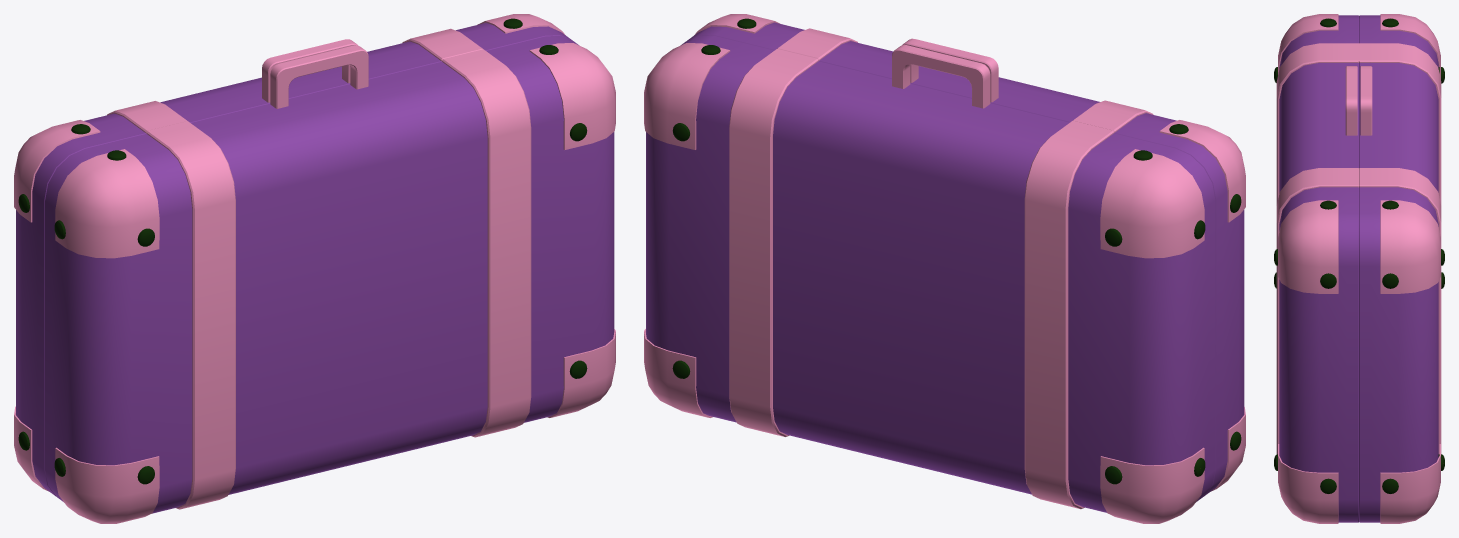
Rendered from Case01.fbx.
3 views of the same model, side by side, from view 1: azimuth 30°, elevation 25°; view 2: azimuth 150°, elevation 25°; view 3: azimuth 270°, elevation 25° (orthographic). The views are drawn at different scales.
Parts seen in each view (by area): view 1: Case01Part01, Case01Part02; view 2: Case01Part02, Case01Part01; view 3: Case01Part02, Case01Part01.
Boxes of the visible parts, bbox=[...] form: Case01Part01: bbox=[45, 35, 615, 523]; Case01Part02: bbox=[14, 14, 573, 496]; Case01Part02: bbox=[644, 35, 1215, 523]; Case01Part01: bbox=[687, 14, 1245, 496]; Case01Part02: bbox=[1359, 14, 1444, 523]; Case01Part01: bbox=[1274, 14, 1358, 523].
Size of the model in its own units: 75 by 51.71 by 23.29.
